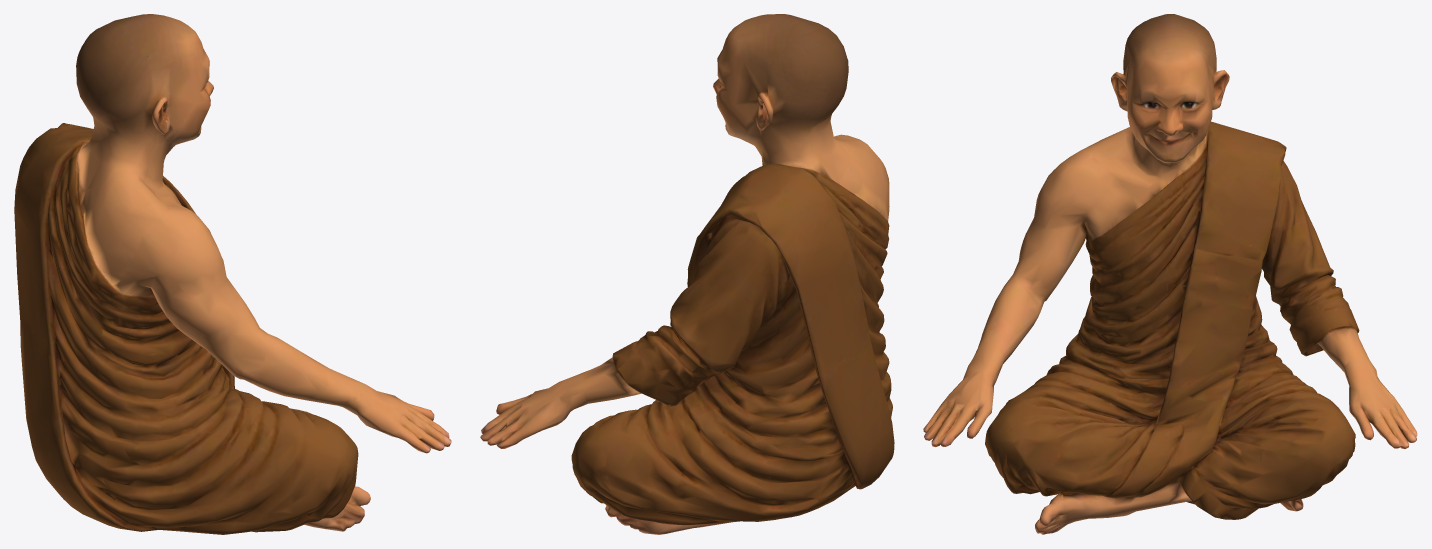
File: monk-middle.glb
3 views of the same model, side by side, from view 1: azimuth 30°, elevation 25°; view 2: azimuth 150°, elevation 25°; view 3: azimuth 270°, elevation 25° (orthographic). The views are drawn at different scales.
Parts seen in each view (by area): view 1: tripo_node_c1f15395-ca35-4df2-a914-84749985f534; view 2: tripo_node_c1f15395-ca35-4df2-a914-84749985f534; view 3: tripo_node_c1f15395-ca35-4df2-a914-84749985f534.
Part boxes in pixels (<box>): tripo_node_c1f15395-ca35-4df2-a914-84749985f534: <box>14,14,451,534</box>; tripo_node_c1f15395-ca35-4df2-a914-84749985f534: <box>480,14,894,534</box>; tripo_node_c1f15395-ca35-4df2-a914-84749985f534: <box>923,14,1417,534</box>.
Bounding box in the file's own units: 0.5922 × 0.9993 × 0.9876.
Materials: 1 (1 with a texture image).
